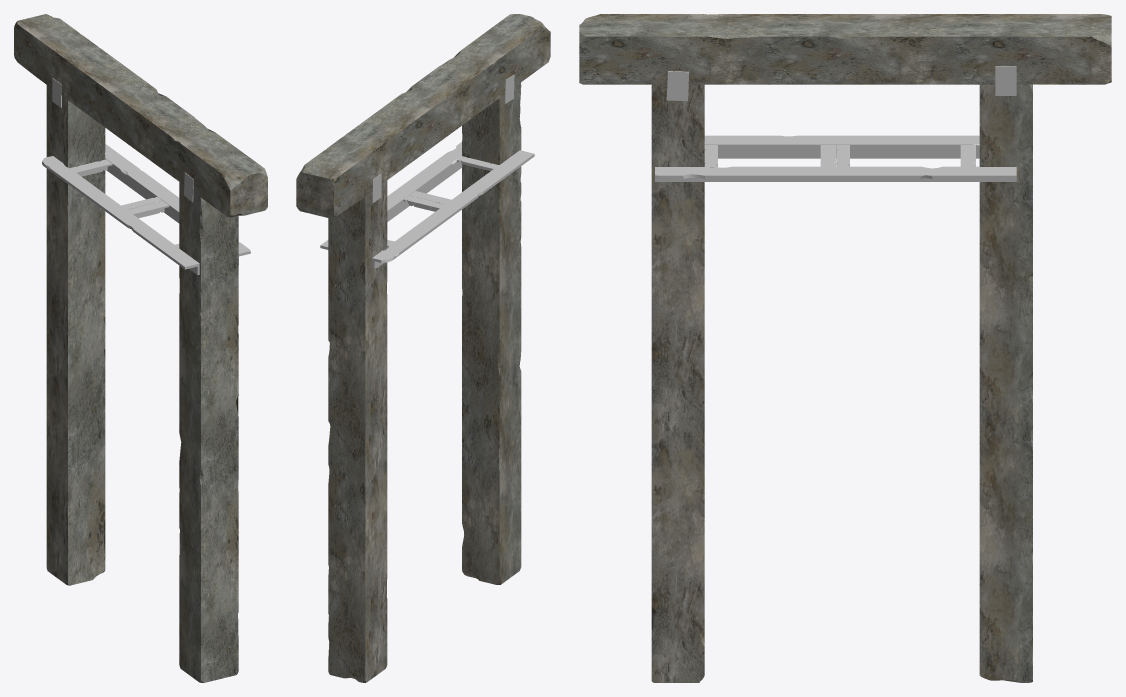
Rendered from opota_truba_002 1.fbx.
3 views of the same model, side by side, from view 1: azimuth 30°, elevation 25°; view 2: azimuth 150°, elevation 25°; view 3: azimuth 270°, elevation 25° (orthographic). The views are drawn at different scales.
Visible parts, largest first — view 1: opora_truba_oo1; view 2: opora_truba_oo1; view 3: opora_truba_oo1.
Part boxes in pixels (<box>): opora_truba_oo1: <box>14,14,267,682</box>; opora_truba_oo1: <box>296,14,550,682</box>; opora_truba_oo1: <box>579,14,1111,682</box>.
Bounding box in the file's own units: 53.39 × 402 × 300.
